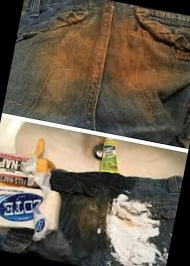earth: (91, 22, 163, 92), (46, 18, 98, 103)
